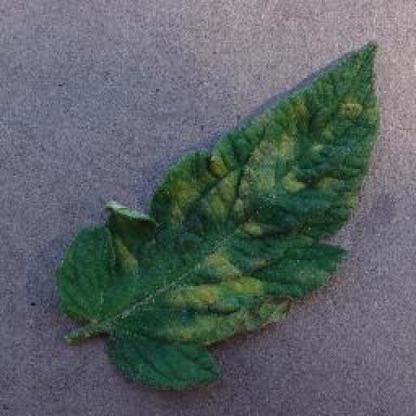Tomato_Leaf_Mold: (57, 37, 377, 390)
